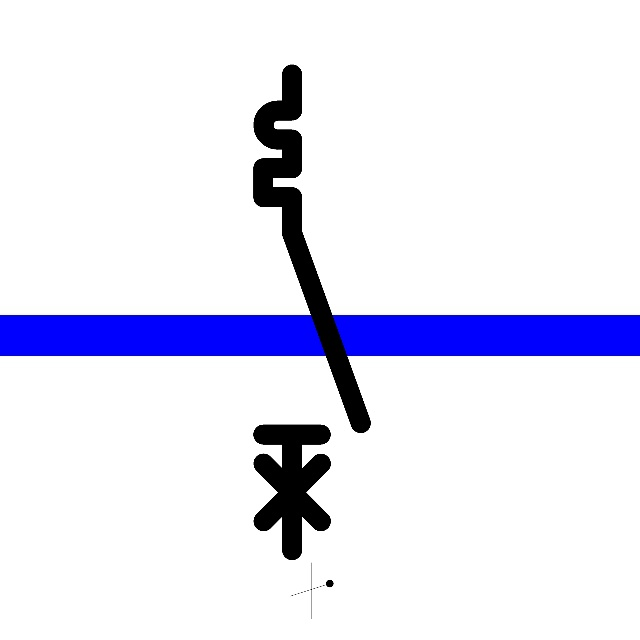interruptor_termomagnetico: (251, 62, 373, 562)
